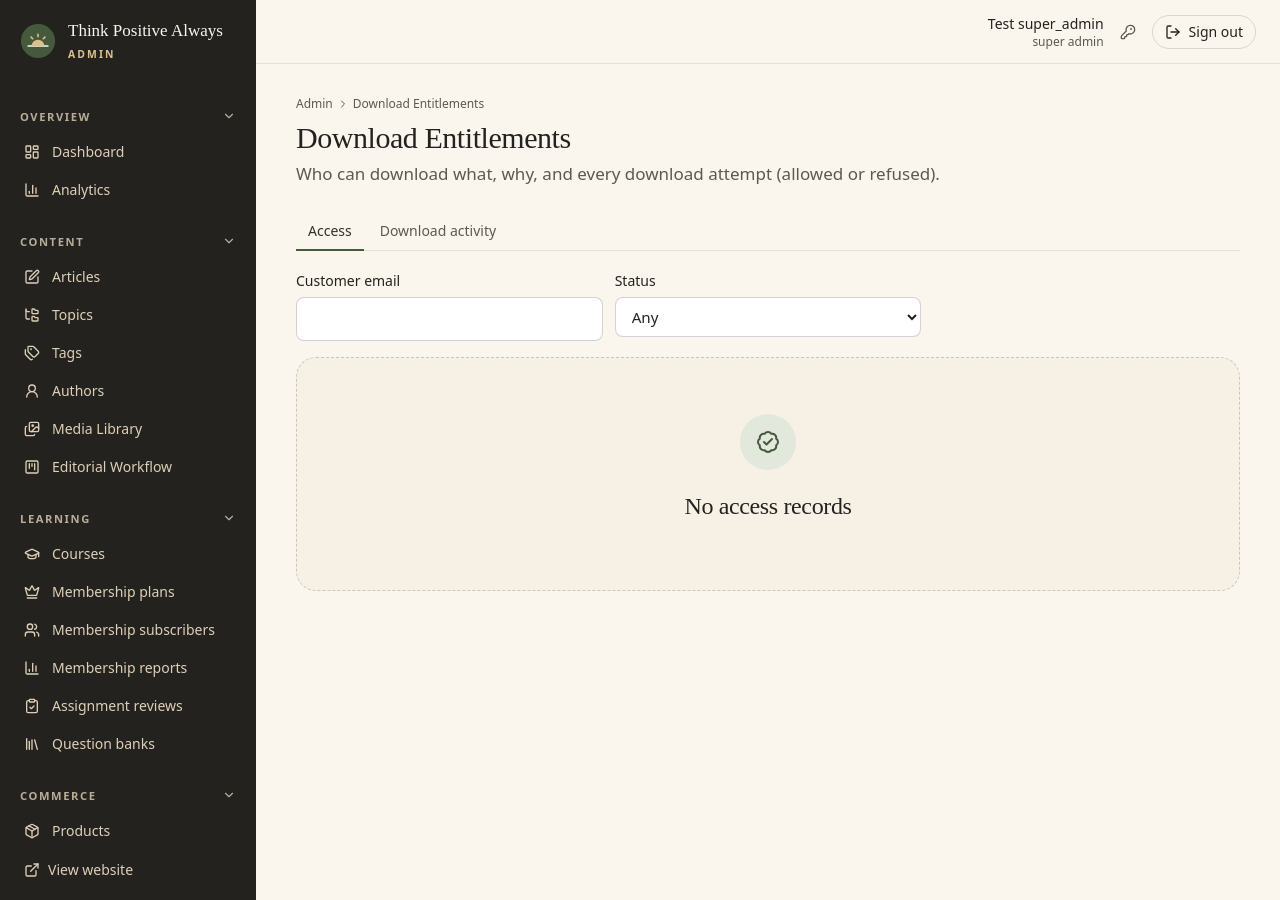
Test: download activity › summarises the last 30 days with readable refusal reasons
Later steps or results of the test are not shown.
Click the tab "Download activity" at (438, 232), box x1=368 y1=213 x2=508 y2=251
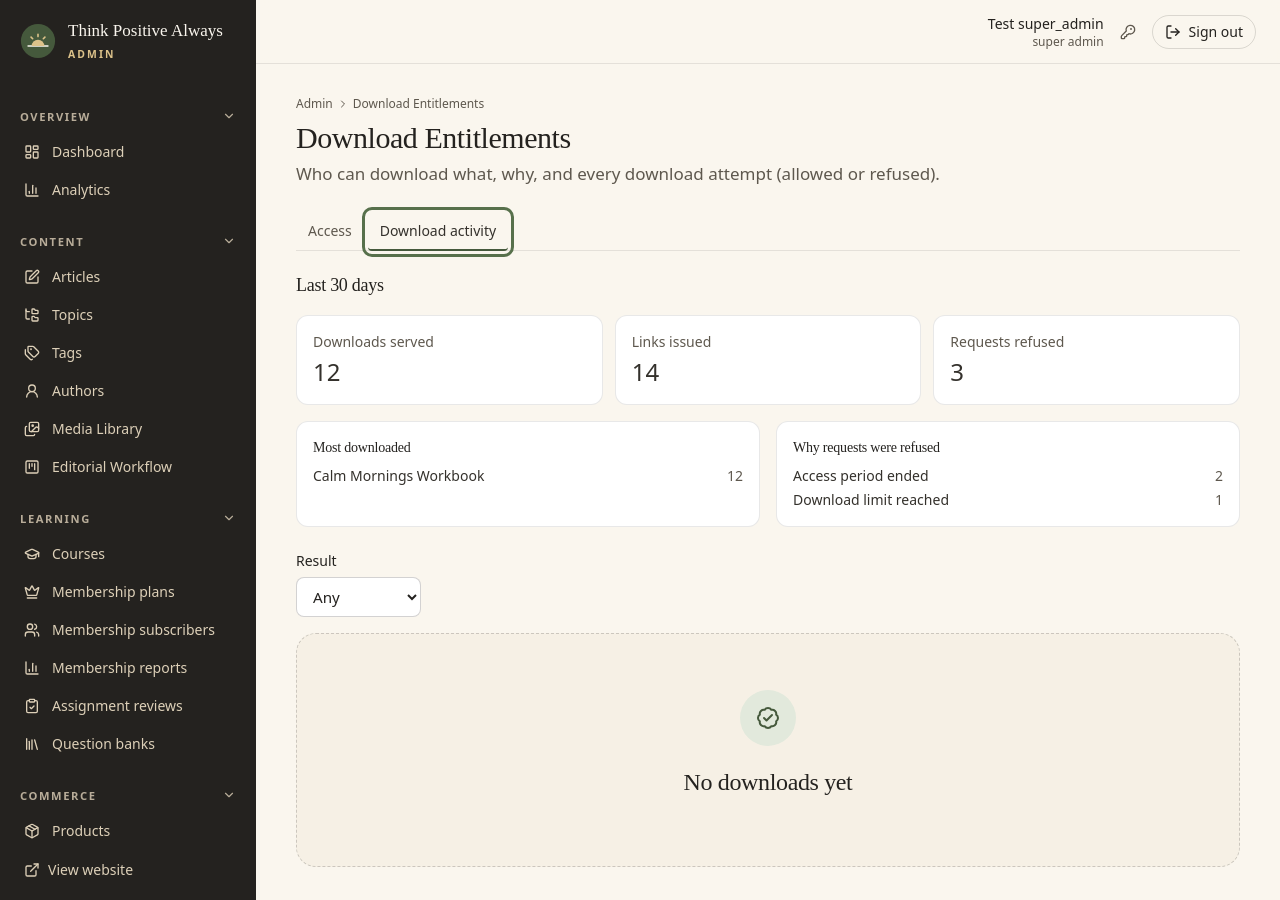
Now the heading "Last 30 days" is shown, box x1=296 y1=275 x2=384 y2=295
Now the text "Access period ended" is shown, box x1=793 y1=466 x2=929 y2=486
Now the text "Download limit reached" is shown, box x1=793 y1=490 x2=949 y2=510
